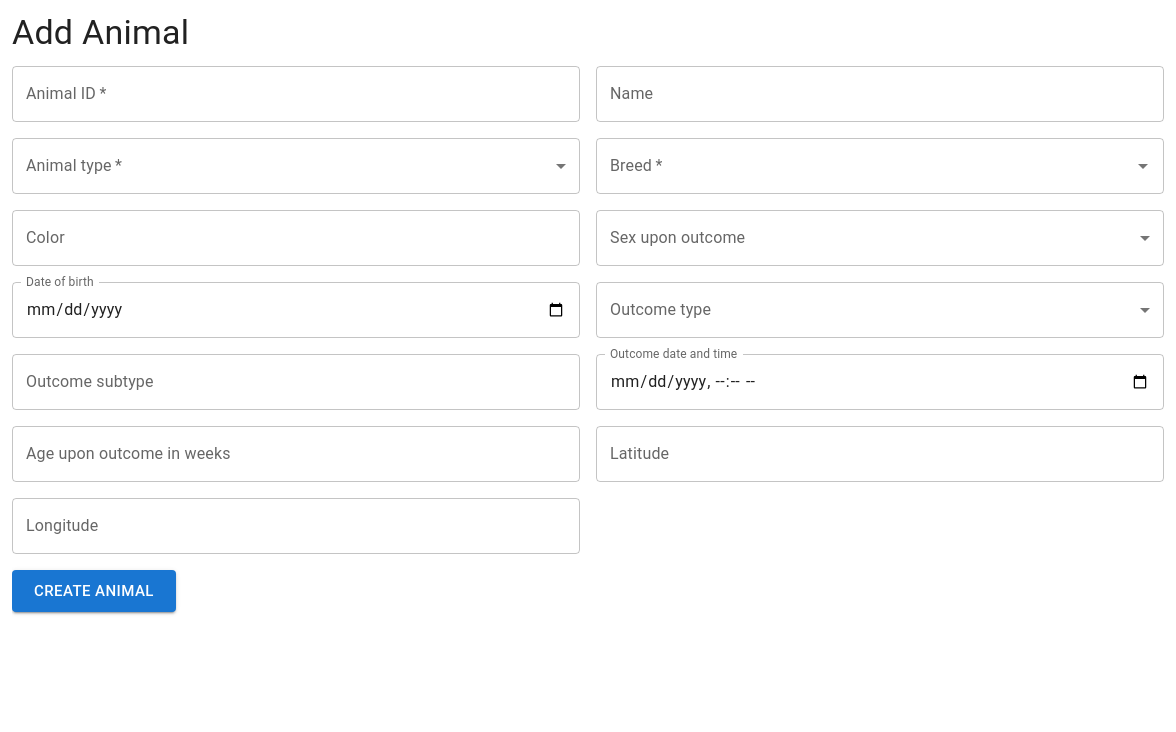
Test: AddAnimalPage › shows the server message when a lookup value is rejected
Type "A123" into the field labelled "Animal ID *".
click(296, 94); type("A123")  # box [12,66,580,122]
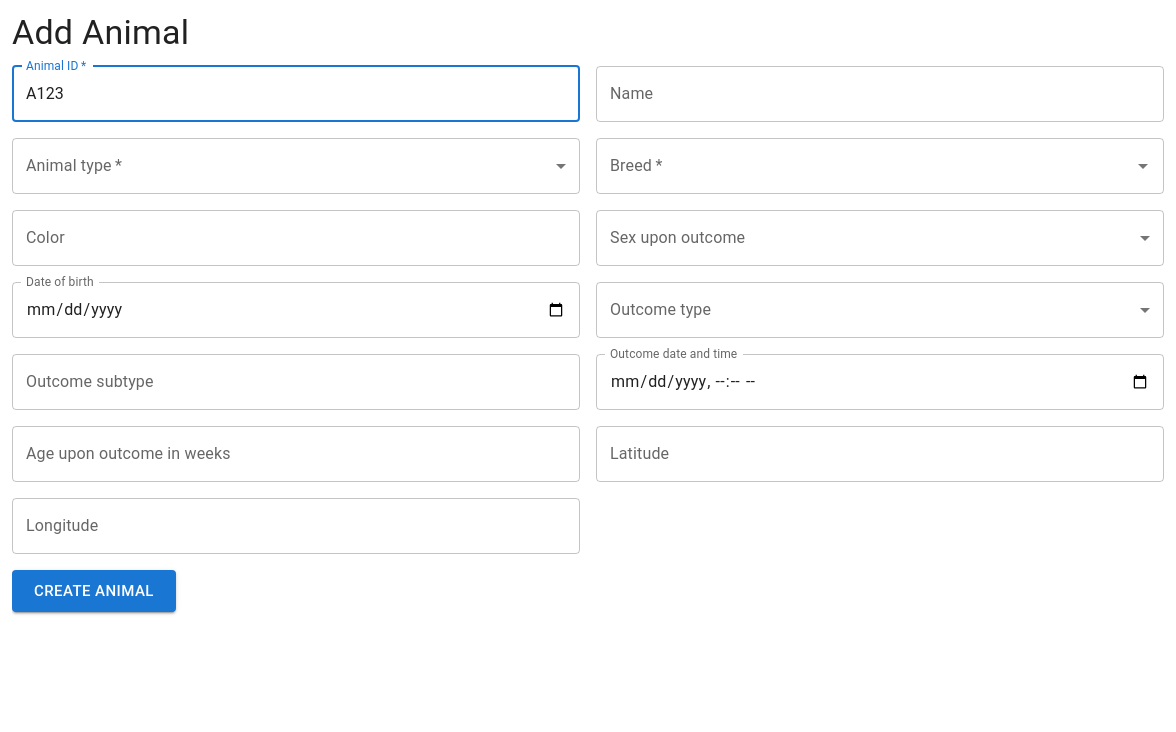
Click the dropdown named "animal type" next to "Animal type".
click(296, 166)  # box [12,138,580,194]
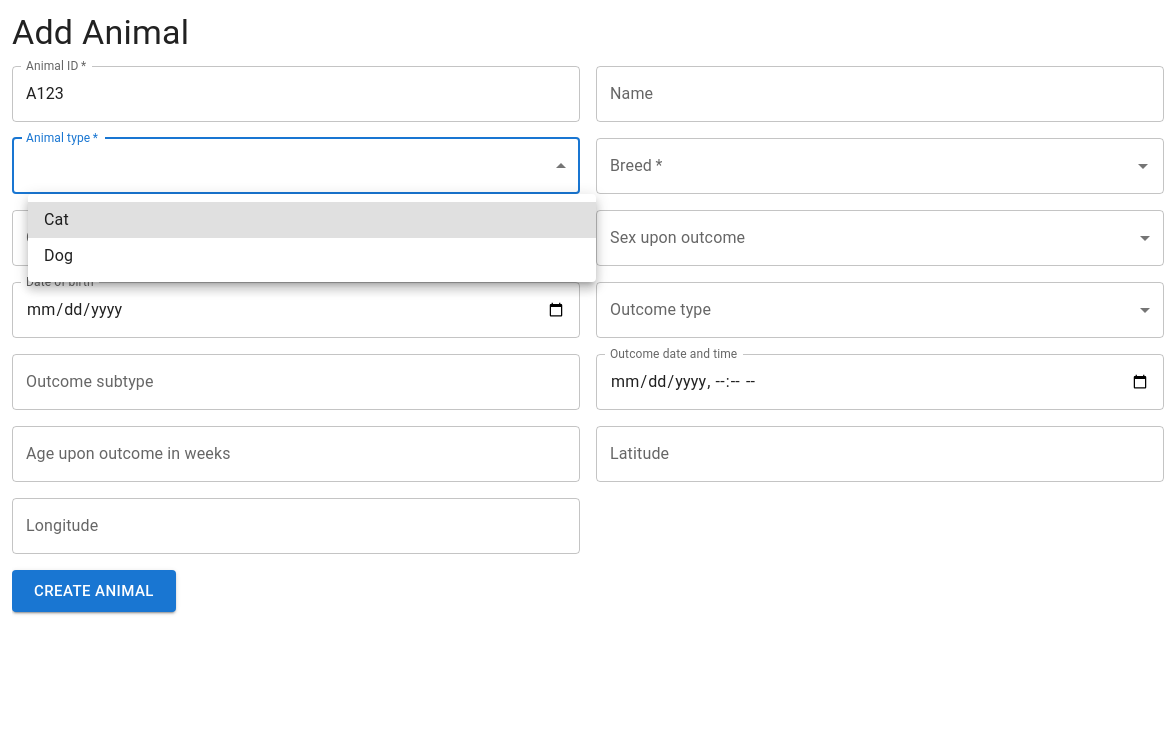
Click the option "Dog".
click(59, 256)  # box [44,246,73,265]
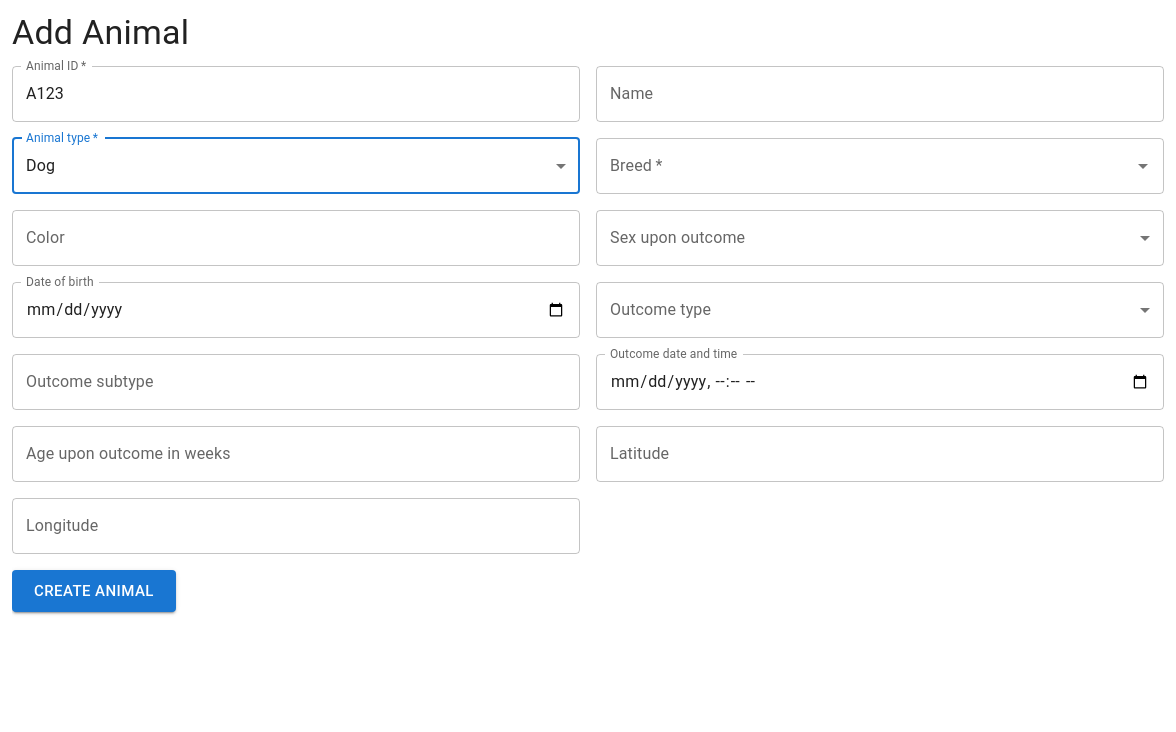
Click the dropdown labelled "Breed *".
click(865, 166)  # box [605,147,1125,185]
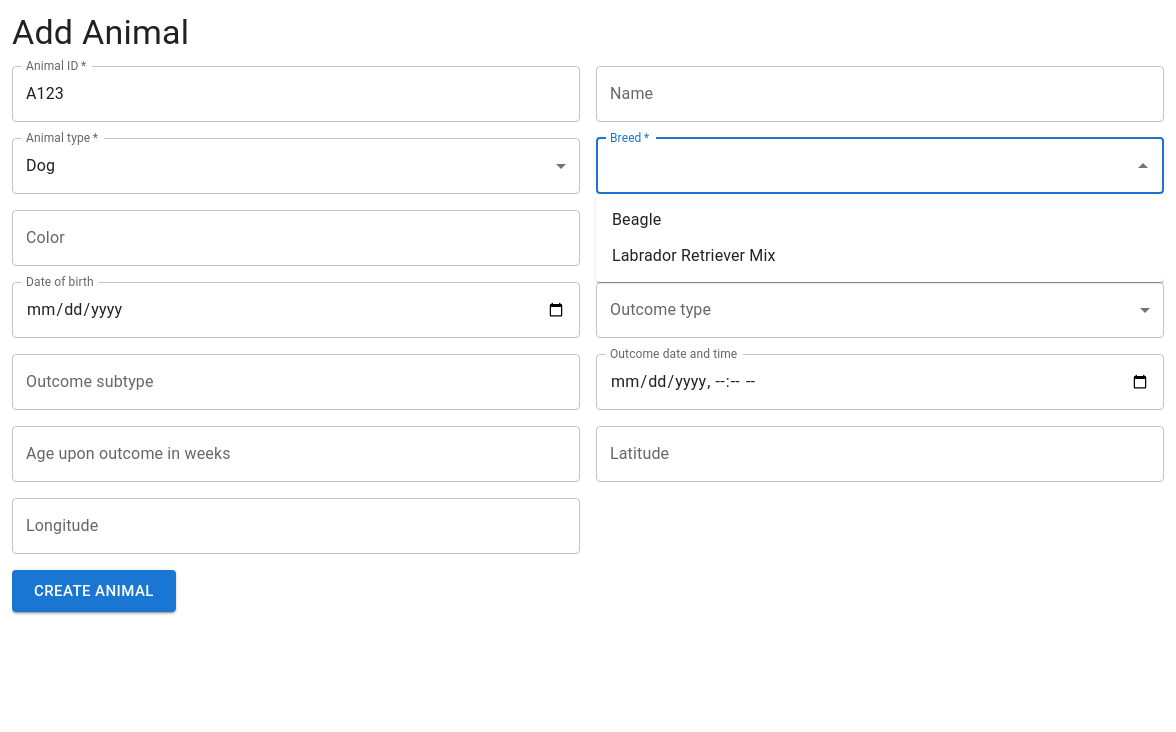
Click the option "Beagle".
click(637, 220)  # box [612,210,661,229]
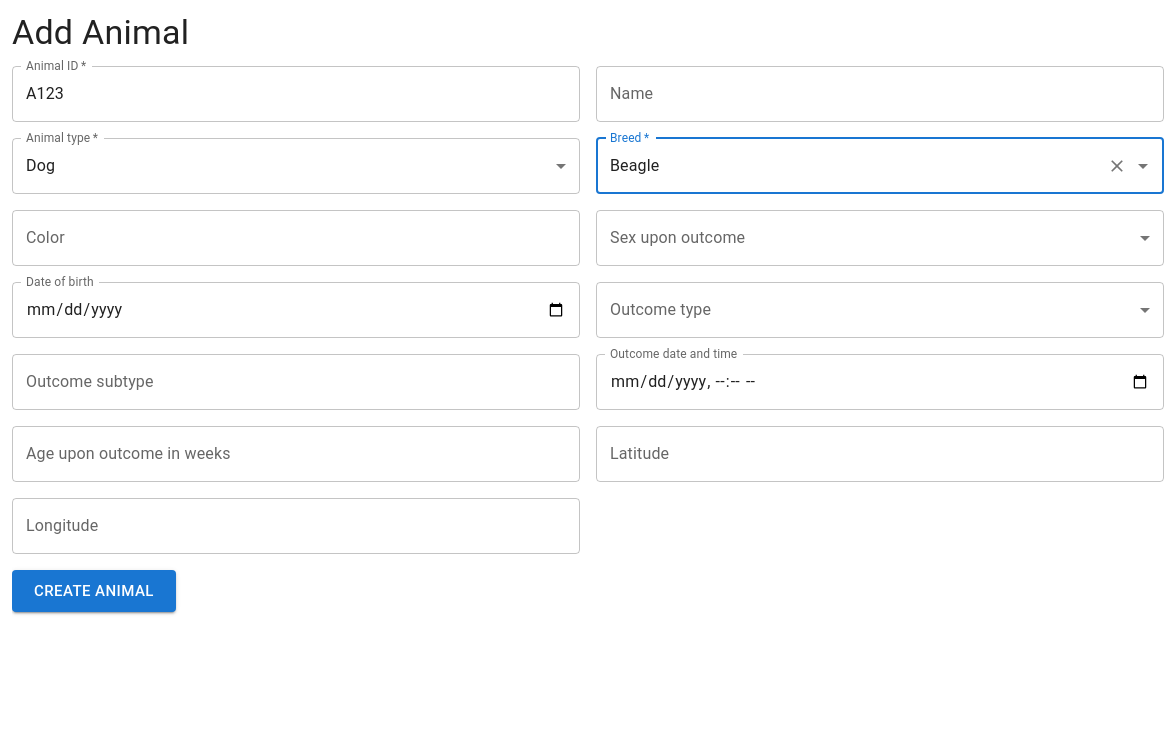
Click the button "Create animal".
click(94, 591)  # box [12,570,176,612]
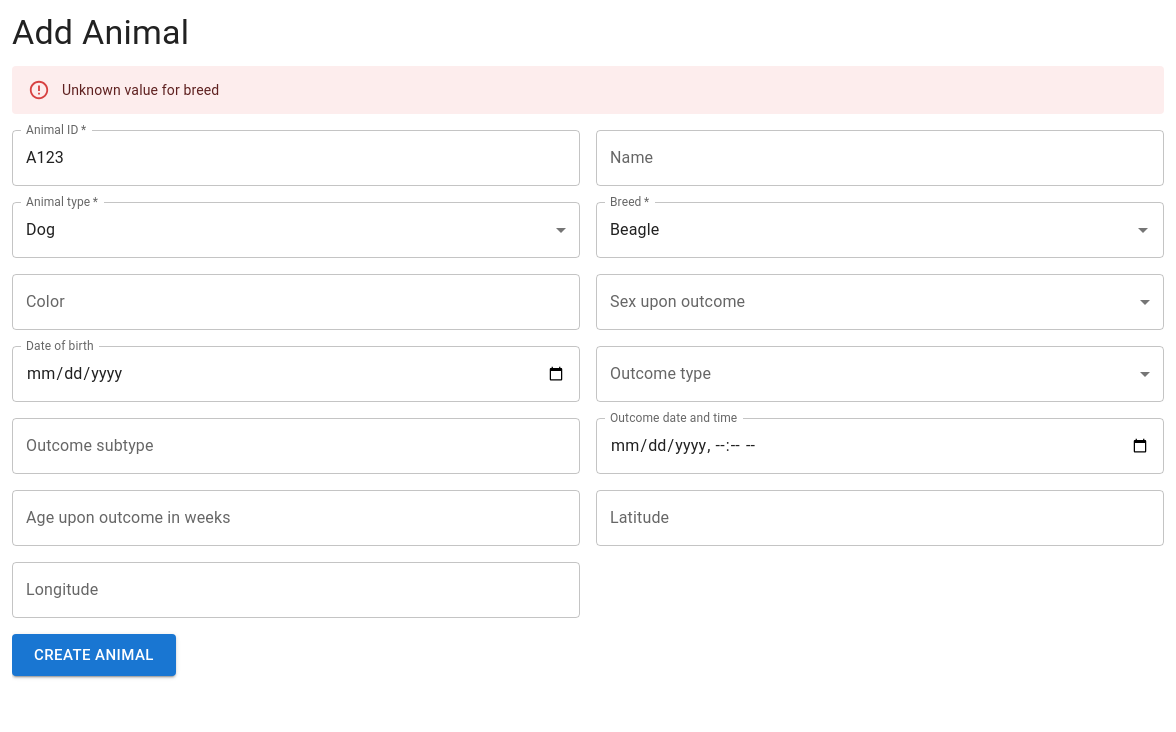
Expected: the text "Unknown value for breed" is shown, [62,82,219,98]
